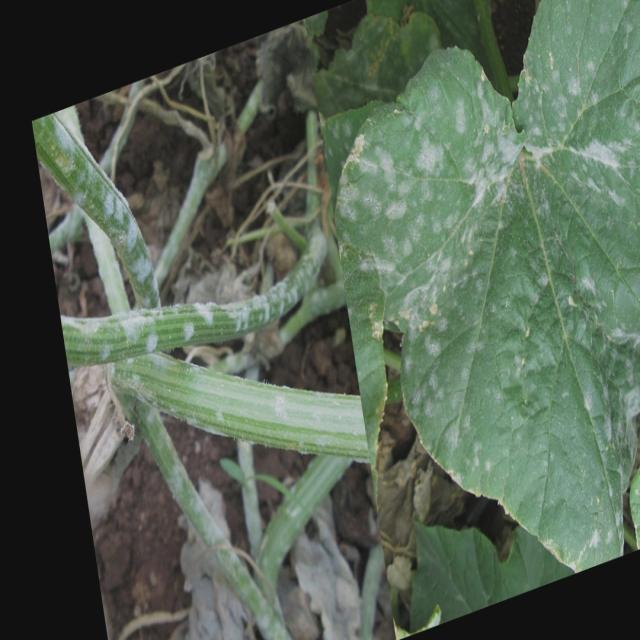Powdery_Mildew: (330, 5, 640, 558), (487, 44, 640, 381), (350, 98, 464, 341)
